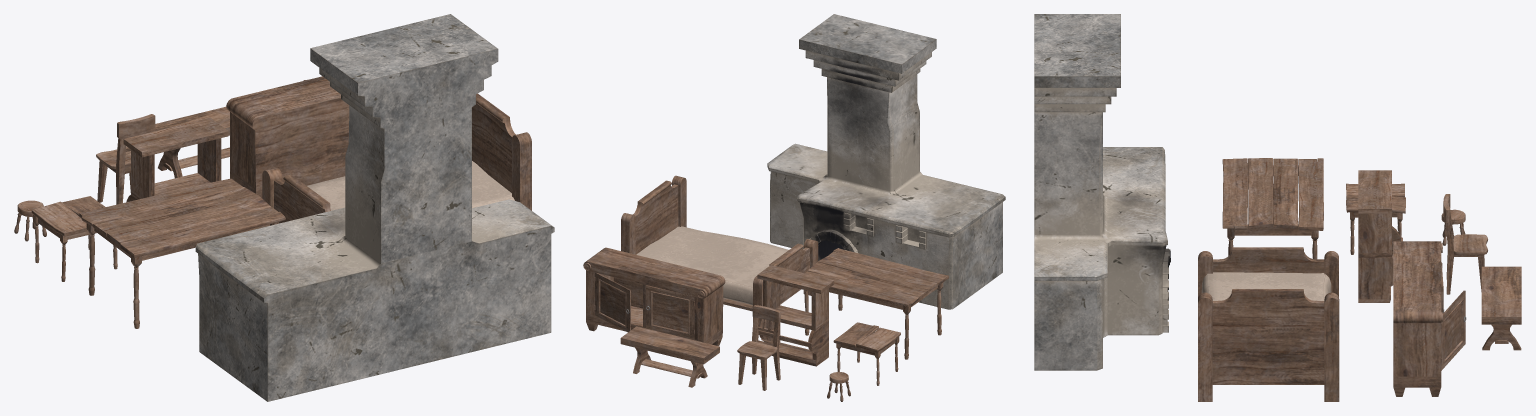
The model's file is baba_yaga_-_izba_furniture.glb.
3 renders of one model, left to right at view 1: azimuth 30°, elevation 25°; view 2: azimuth 150°, elevation 25°; view 3: azimuth 270°, elevation 25°, orthographic. The views are drawn at different scales.
Visible parts, largest first — view 1: Chimney, Counter1:Counter1, Table:Table, Cot:Cot, DishShelf:DishShelf, EndTable:EndTable, Chair:Chair, Bench:Bench, Stool:Stool; view 2: Chimney, Cot:Cot, Counter1:Counter1, Table:Table, DishShelf:DishShelf, Bench:Bench, Chair:Chair, EndTable:EndTable, Stool:Stool; view 3: Chimney, Cot:Cot, Counter1:Counter1, Table:Table, DishShelf:DishShelf, Bench:Bench, Chair:Chair, EndTable:EndTable.
Part boxes in pixels (left/top/right/bottom): Chimney: left=195, top=14, right=554, bottom=401; Counter1:Counter1: left=226, top=76, right=349, bottom=197; Table:Table: left=79, top=178, right=285, bottom=328; Cot:Cot: left=262, top=93, right=531, bottom=223; DishShelf:DishShelf: left=123, top=117, right=228, bottom=202; EndTable:EndTable: left=31, top=196, right=117, bottom=281; Chair:Chair: left=96, top=114, right=155, bottom=204; Bench:Bench: left=154, top=106, right=229, bottom=178; Stool:Stool: left=14, top=200, right=46, bottom=241; Chimney: left=767, top=14, right=1005, bottom=309; Cot:Cot: left=621, top=175, right=818, bottom=326; Counter1:Counter1: left=583, top=247, right=725, bottom=345; Table:Table: left=804, top=248, right=948, bottom=359; DishShelf:DishShelf: left=757, top=265, right=834, bottom=366; Bench:Bench: left=620, top=326, right=719, bottom=387; Chair:Chair: left=737, top=305, right=780, bottom=390; EndTable:EndTable: left=833, top=322, right=900, bottom=385; Stool:Stool: left=827, top=372, right=850, bottom=401; Chimney: left=1034, top=14, right=1170, bottom=370; Cot:Cot: left=1198, top=247, right=1339, bottom=401; Counter1:Counter1: left=1393, top=241, right=1466, bottom=396; Table:Table: left=1222, top=158, right=1323, bottom=259; DishShelf:DishShelf: left=1358, top=170, right=1402, bottom=302; Bench:Bench: left=1481, top=266, right=1521, bottom=350; Chair:Chair: left=1443, top=194, right=1487, bottom=294; EndTable:EndTable: left=1346, top=183, right=1405, bottom=254.
Bounding box in the file's own units: 34.12 × 25.02 × 40.83.
Materials: 1 (1 with a texture image).
